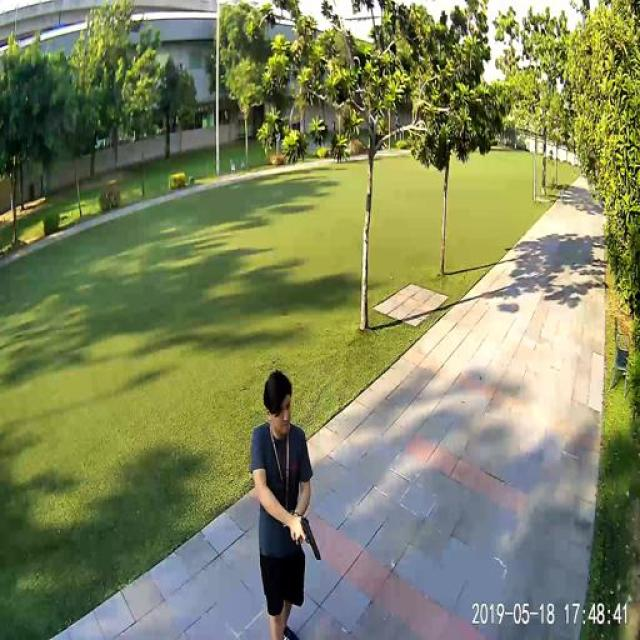senjata_api: (301, 518, 324, 562)
